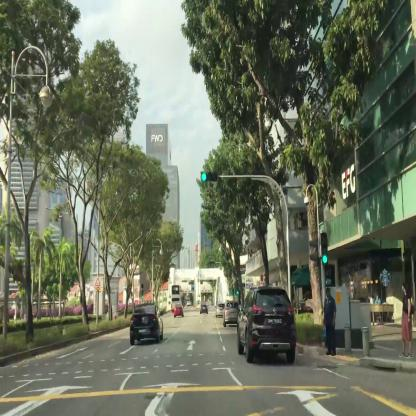green_traffic_light: (201, 172, 217, 181)
